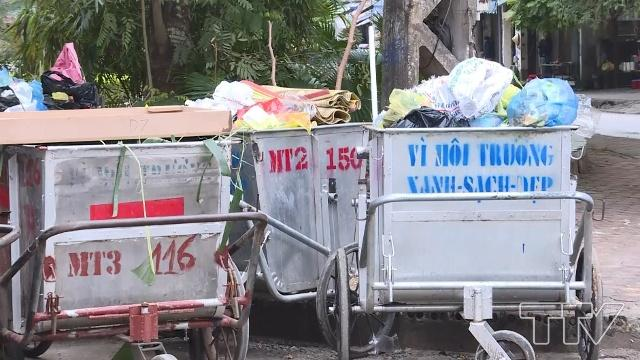plastic bag: (369, 56, 594, 160), (181, 78, 319, 133)
